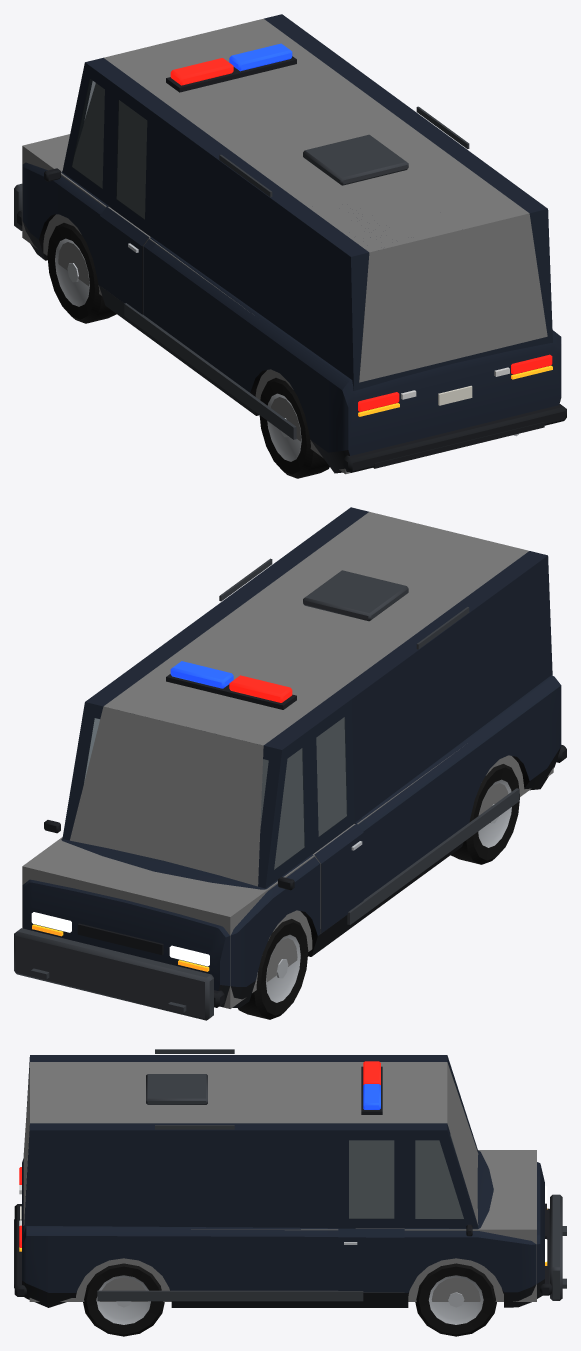
File: swat.glb
The picture shows the model from 3 angles, top to bottom: view 1: azimuth 30°, elevation 25°; view 2: azimuth 150°, elevation 25°; view 3: azimuth 270°, elevation 25°; orthographic projection. The views are drawn at different scales.
Parts seen in each view (by area): view 1: swat, swat_Body, swat_Cabin, swat_Door_FL, swat_Bumper_R, swat_Wheel_FL, swat_Wheel_RL; view 2: swat, swat_Body, swat_Cabin, swat_Door_FL, swat_Wheel_FL, swat_Wheel_RL, swat_Grille; view 3: swat_Cabin, swat, swat_Body, swat_Door_FR, swat_Wheel_FR, swat_Wheel_RR, swat_Bumper_R, swat_Bumper_F.
Boxes of the visible parts, x1,y1,x2,y2 form: swat: (22,18,547,474); swat_Body: (14,43,561,473); swat_Cabin: (62,14,552,390); swat_Door_FL: (100,82,154,314); swat_Bumper_R: (343,403,566,472); swat_Wheel_FL: (47,223,116,323); swat_Wheel_RL: (259,378,329,478); swat: (22,512,553,1008); swat_Body: (14,558,561,1020); swat_Cabin: (62,507,552,888); swat_Door_FL: (309,699,363,933); swat_Wheel_FL: (238,919,308,1019); swat_Wheel_RL: (451,764,519,864); swat_Grille: (77,923,163,955); swat_Cabin: (23,1055,478,1233); swat: (23,1062,536,1301); swat_Body: (19,1049,566,1307); swat_Door_FR: (338,1130,404,1292); swat_Wheel_FR: (415,1263,496,1336); swat_Wheel_RR: (83,1263,164,1336); swat_Bumper_R: (14,1204,26,1296); swat_Bumper_F: (539,1208,551,1295).
Size of what is drawn, in the model's own units: 2.54 by 2.68 by 6.24.
